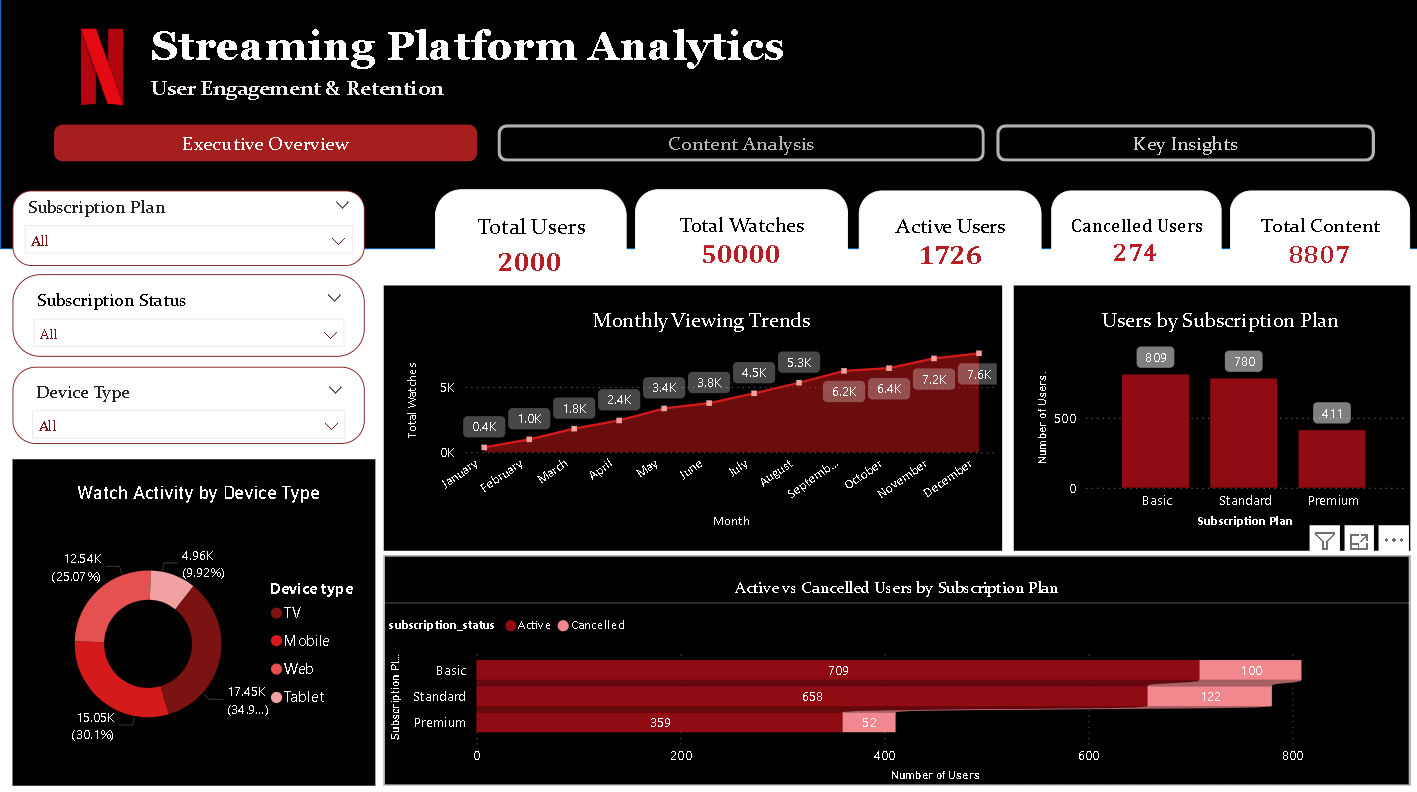

The page's visual inventory and layout, read from the dashboard file:
{"tool":"powerbi","page":{"name":"Executive Overview","canvas":[1280,720],"ordinal":16},"visuals":[{"type":"shape","box":[0,0,1280.4,226.6],"z":0},{"type":"image","box":[0,10.1,182.6,101.4],"z":1000},{"type":"textbox","box":[130.7,15.8,867.9,57.5],"z":2000},{"type":"card","title":"Total Users","fields":{"Values":["Count(Users.user_id)"]},"box":[392.2,172.4,172.4,102.6],"z":3000},{"type":"textbox","box":[130.7,65.4,509.5,36.1],"z":4000},{"type":"card","title":"Total Watches","fields":{"Values":["Count(WatchHistory.watch_id)"]},"box":[572.6,172.4,191.6,85.7],"z":5000},{"type":"card","title":"Active Users","fields":{"Values":["Count(Users.user_id)"]},"box":[774.3,173.6,164.6,86.8],"z":6000},{"type":"card","title":"Cancelled Users","fields":{"Values":["Count(Users.user_id)"]},"box":[947.9,173.6,153.3,86.8],"z":7000},{"type":"card","title":"Total Content","fields":{"Values":["Count(Content.content_id)"]},"box":[1109.1,173.6,162.3,90.2],"z":8000},{"type":"lineChart","title":"Monthly Viewing Trends","fields":{"Category":["WatchHistory.watch_date.Variation.Date Hierarchy.Month"],"Y":["CountNonNull(WatchHistory.watch_id)"]},"box":[346,259.2,557.9,238.9],"z":9000},{"type":"clusteredColumnChart","title":"Users by Subscription Plan","fields":{"Category":["Users.subscription_plan"],"Y":["CountNonNull(Users.user_id)"]},"box":[914.1,259.2,357.3,238.9],"z":10000},{"type":"barChart","title":"Active vs Cancelled Users by Subscription Plan","fields":{"Category":["Users.subscription_plan"],"Y":["CountNonNull(Users.user_id)"],"Series":["Users.subscription_status"]},"box":[346,502.7,925.4,207.4],"z":11000},{"type":"donutChart","title":"Watch Activity by Device Type","fields":{"Category":["WatchHistory.device_type"],"Y":["CountNonNull(WatchHistory.watch_id)"]},"box":[11.3,415.9,326.9,294.2],"z":12000},{"type":"slicer","title":"Subscription Status","fields":{"Values":["Users.subscription_status"]},"box":[11.3,249.1,317.8,74.4],"z":13000},{"type":"slicer","fields":{"Values":["Users.subscription_plan"]},"box":[11.3,173.6,317.8,67.6],"z":14000},{"type":"slicer","title":"Device Type","fields":{"Values":["WatchHistory.device_type"]},"box":[11.3,332.5,317.8,69.9],"z":15000},{"type":"shape","box":[48.5,113.8,382.1,33.8],"z":16000},{"type":"actionButton","box":[448.6,113.8,439.6,33.8],"z":17000},{"type":"actionButton","box":[898.3,113.8,341.5,33.8],"z":18000}]}

Visuals, with their boxes in screenshot pixels (x1, y1, x2, y2), scaled from the page's 1280x720 canvas onto the 1417x792 screenshot:
shape: region(0, 0, 1416, 249)
image: region(0, 11, 202, 123)
textbox: region(145, 17, 1105, 81)
"Total Users" card: region(434, 190, 625, 302)
textbox: region(145, 72, 709, 112)
"Total Watches" card: region(634, 190, 846, 284)
"Active Users" card: region(857, 191, 1039, 286)
"Cancelled Users" card: region(1049, 191, 1219, 286)
"Total Content" card: region(1228, 191, 1407, 290)
"Monthly Viewing Trends" lineChart: region(383, 285, 1001, 548)
"Users by Subscription Plan" clusteredColumnChart: region(1012, 285, 1407, 548)
"Active vs Cancelled Users by Subscription Plan" barChart: region(383, 553, 1407, 781)
"Watch Activity by Device Type" donutChart: region(13, 457, 374, 781)
"Subscription Status" slicer: region(13, 274, 364, 356)
slicer - Users.subscription_plan: region(13, 191, 364, 265)
"Device Type" slicer: region(13, 366, 364, 443)
shape: region(54, 125, 477, 162)
actionButton: region(497, 125, 983, 162)
actionButton: region(994, 125, 1372, 162)
